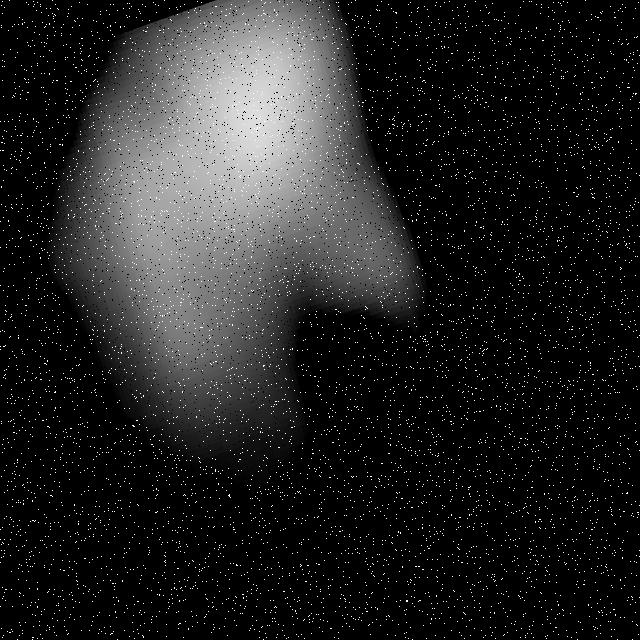person: (1, 1, 505, 640)
